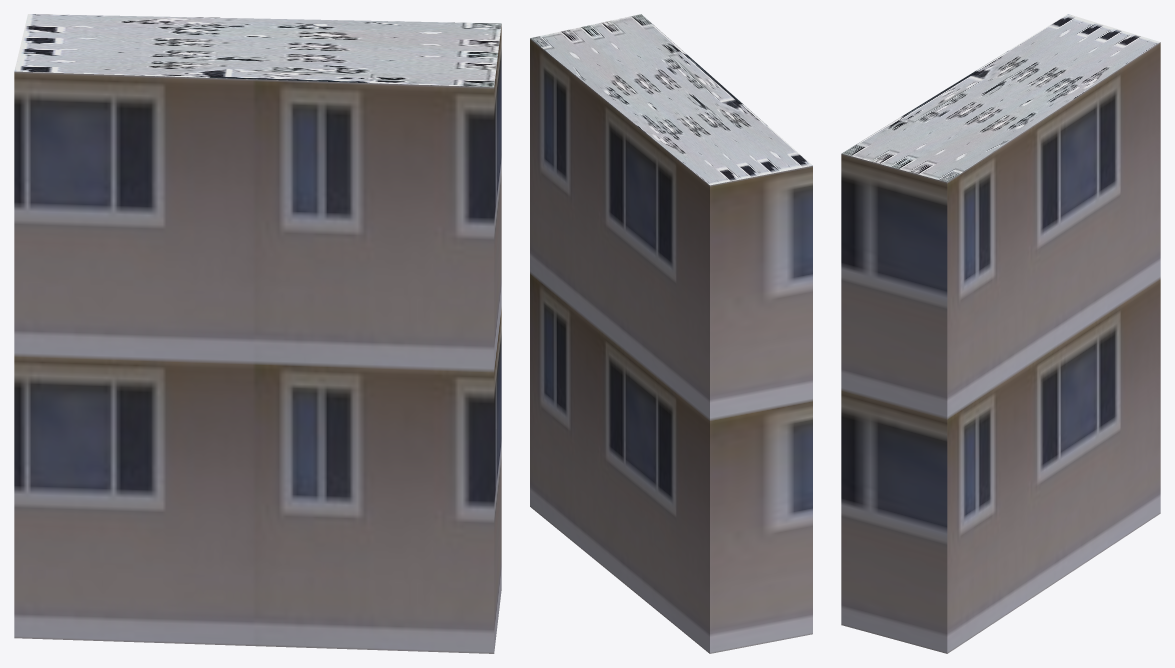
Rendered from ResTex__4030.fbx.
3 views of the same model, side by side, from view 1: azimuth 30°, elevation 25°; view 2: azimuth 150°, elevation 25°; view 3: azimuth 270°, elevation 25° (orthographic). The views are drawn at different scales.
Visible parts, largest first — view 1: CityEngineMaterial_21_m, CityEngineMaterial_8_m; view 2: CityEngineMaterial_21_m, CityEngineMaterial_8_m; view 3: CityEngineMaterial_21_m, CityEngineMaterial_8_m.
Boxes of the visible parts, x1,y1,x2,y2 form: CityEngineMaterial_21_m: (14,24,501,653); CityEngineMaterial_8_m: (14,14,501,87); CityEngineMaterial_21_m: (530,38,812,653); CityEngineMaterial_8_m: (530,14,812,185); CityEngineMaterial_21_m: (841,42,1160,653); CityEngineMaterial_8_m: (842,14,1159,182).
Size of the model in its own units: 4.59 by 6 by 3.68.
2 materials, 2 textured.
